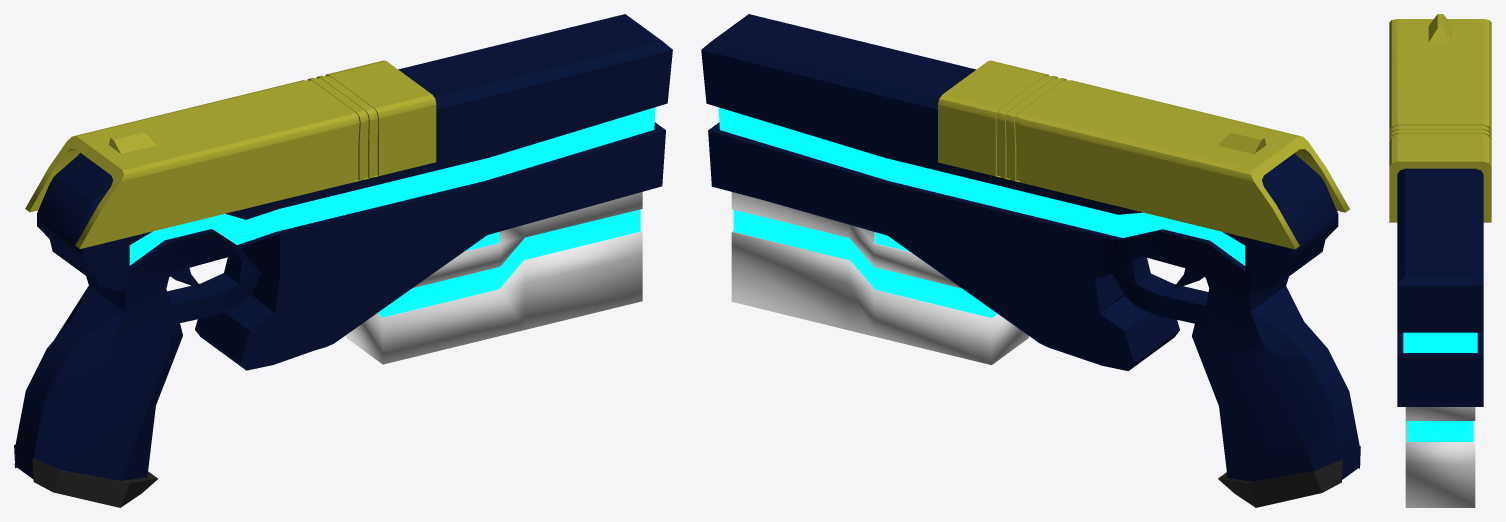
Rendered from Handgun v2.fbx.
The picture shows the model from 3 angles, left to right: view 1: azimuth 30°, elevation 25°; view 2: azimuth 150°, elevation 25°; view 3: azimuth 270°, elevation 25°; orthographic projection. The views are drawn at different scales.
Parts seen in each view (by area): view 1: Gun material reduced; view 2: Gun material reduced; view 3: Gun material reduced.
Part boxes in pixels (left/top/right/bottom): Gun material reduced: left=14, top=14, right=672, bottom=507; Gun material reduced: left=701, top=14, right=1360, bottom=507; Gun material reduced: left=1389, top=14, right=1491, bottom=507.
Bounding box in the file's own units: 483 × 261 × 72.53.
